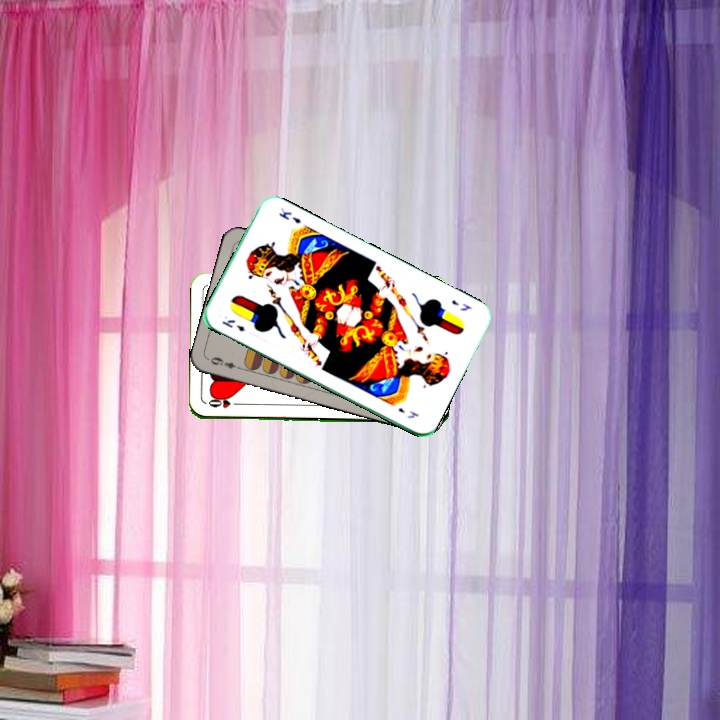E9: (205, 353, 244, 372)
EK: (218, 316, 248, 334), (447, 296, 474, 314)
HO: (204, 397, 244, 410)
